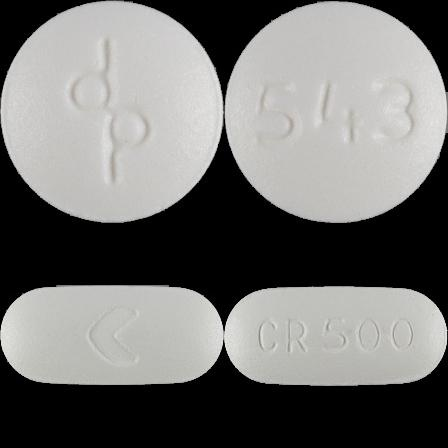54868-4851: (0, 0, 224, 224)
